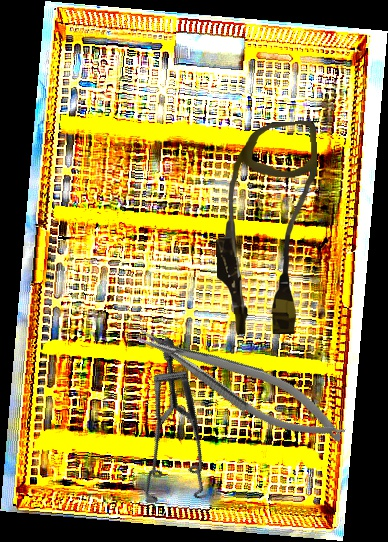Cannula: (214, 121, 320, 335)
Needle Holder: (130, 307, 353, 460)
Speculum: (89, 336, 266, 527)
